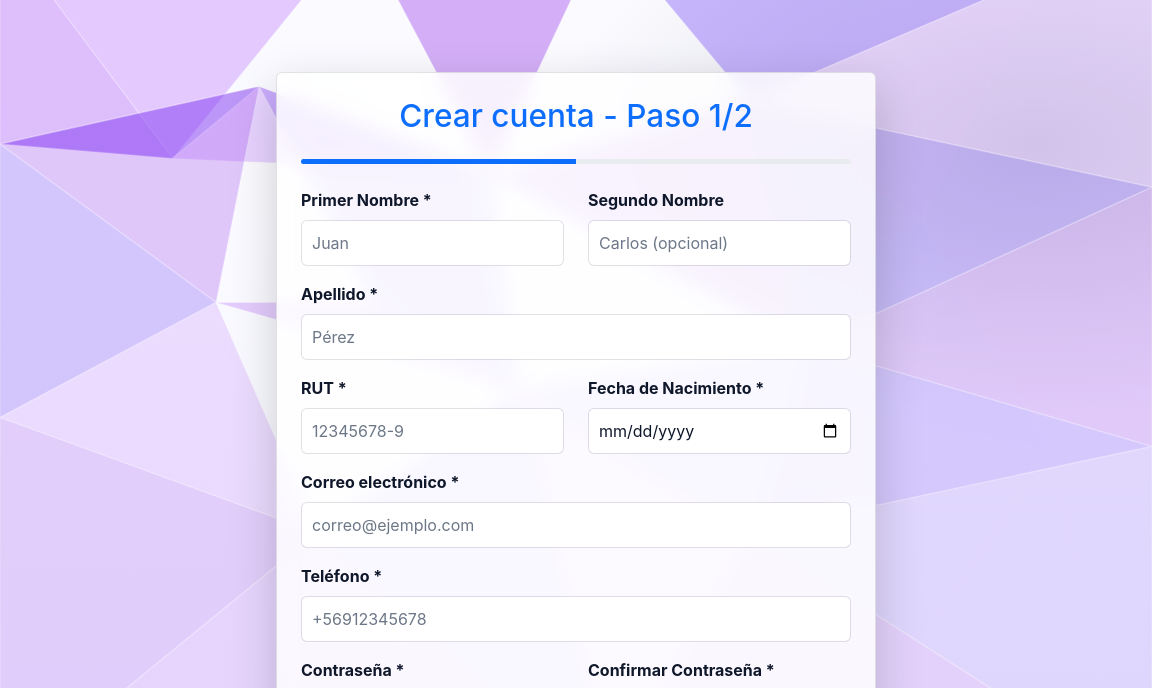
Test: Registro Component - Microservicios › detecta correos DuocUC y muestra beneficio
Type "test@duocuc.cl" into the field labelled "Correo electrónico *" at {"x": 576, "y": 525}, box [301,502,851,548]
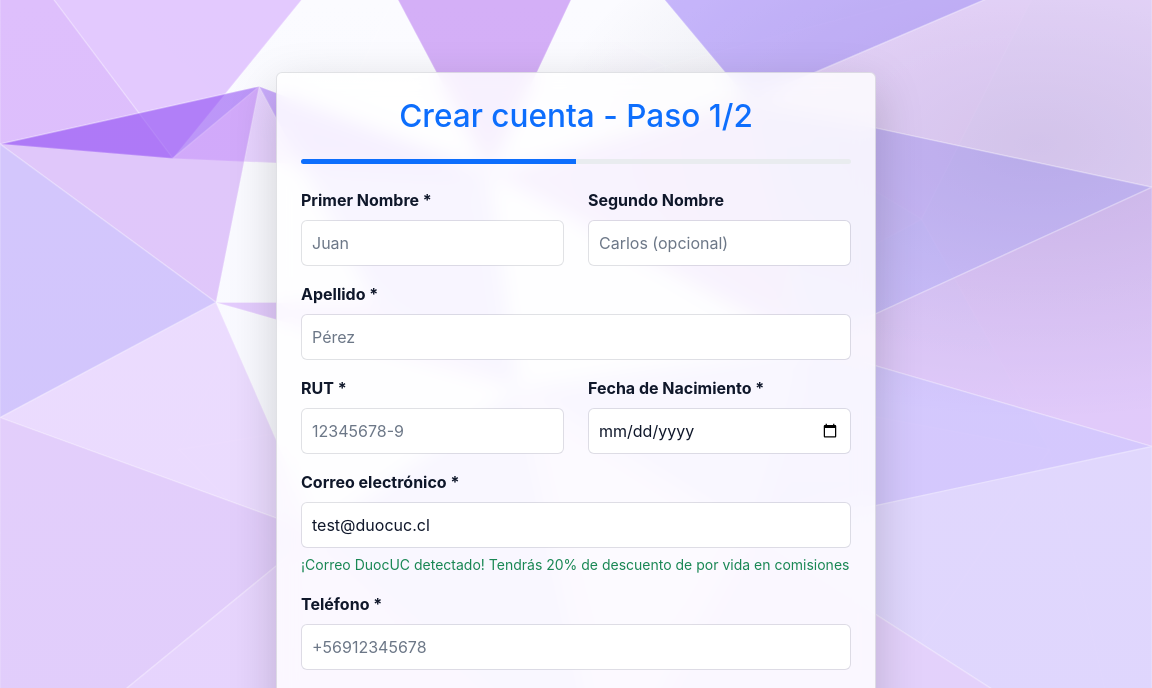
Check: the text "20% de descuento" is shown, box [301,556,850,573]
